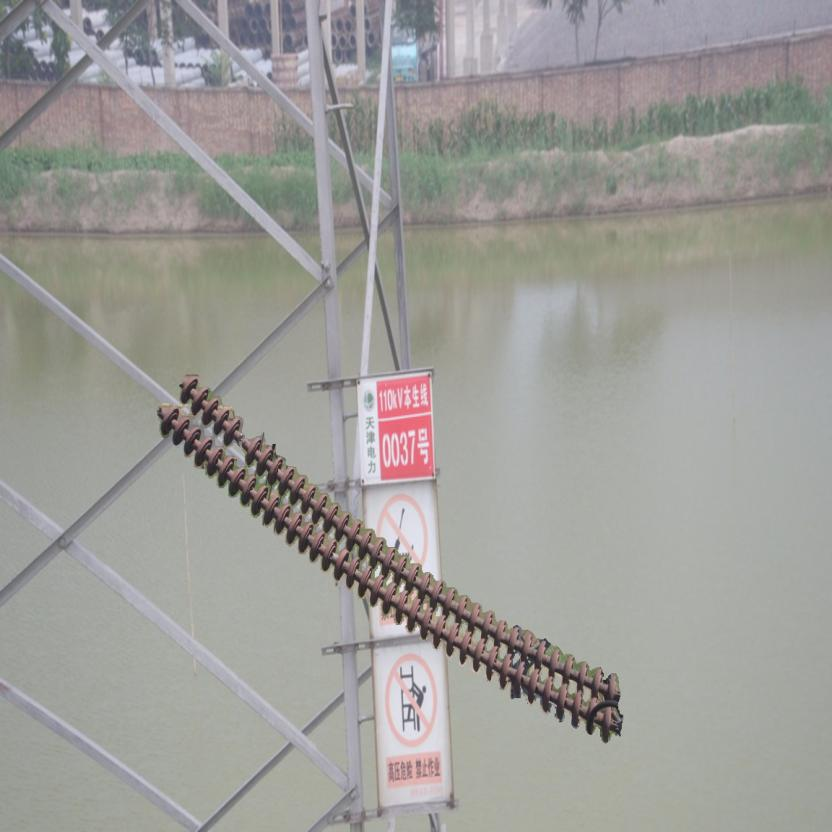defect: (219, 412, 265, 468)
